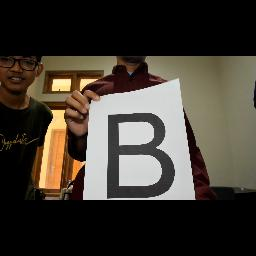b: (103, 110, 177, 200)
